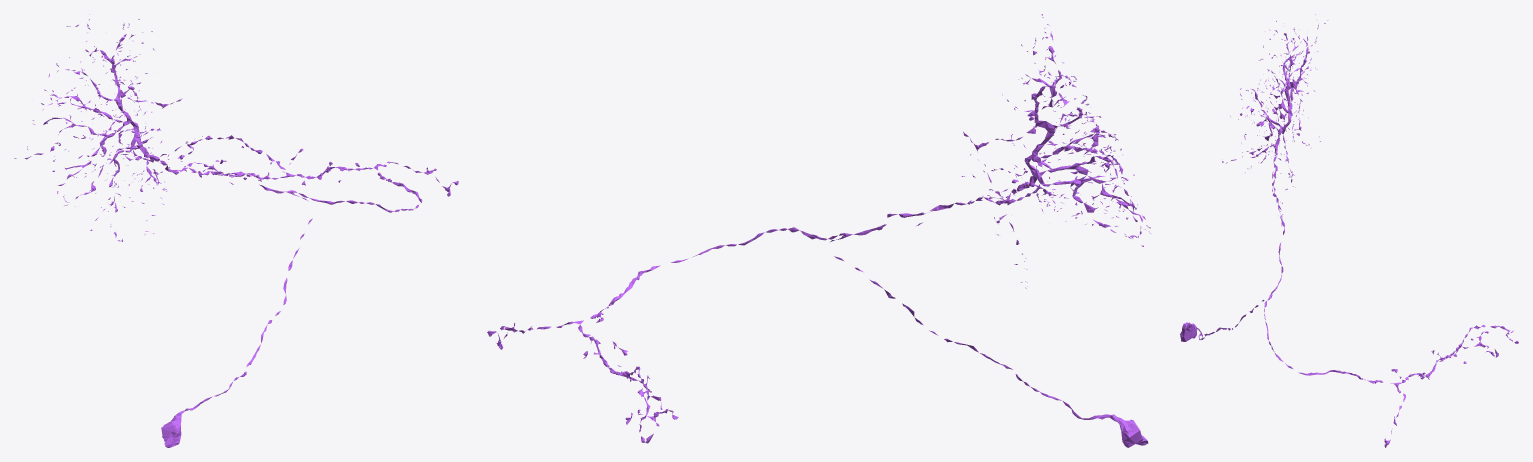
The model's file is VFB_00103vye.glb.
3 views of the same model, side by side, from view 1: azimuth 30°, elevation 25°; view 2: azimuth 150°, elevation 25°; view 3: azimuth 270°, elevation 25° (orthographic). The views are drawn at different scales.
Parts seen in each view (by area): view 1: VFB_00103vye; view 2: VFB_00103vye; view 3: VFB_00103vye.
Part boxes in pixels (left/top/right/bottom): VFB_00103vye: left=14, top=14, right=458, bottom=447; VFB_00103vye: left=487, top=14, right=1150, bottom=447; VFB_00103vye: left=1180, top=14, right=1518, bottom=447.
Bounding box in the file's own units: 0.0986 × 0.0742 × 0.0693.
